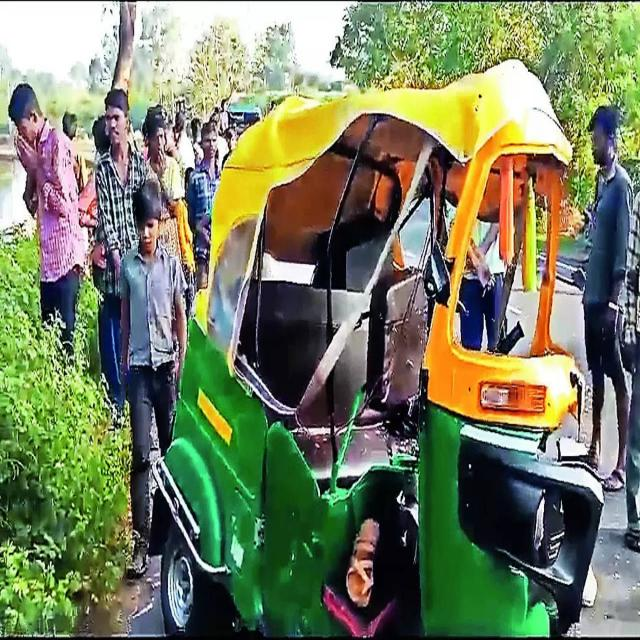accident: (150, 62, 602, 637)
